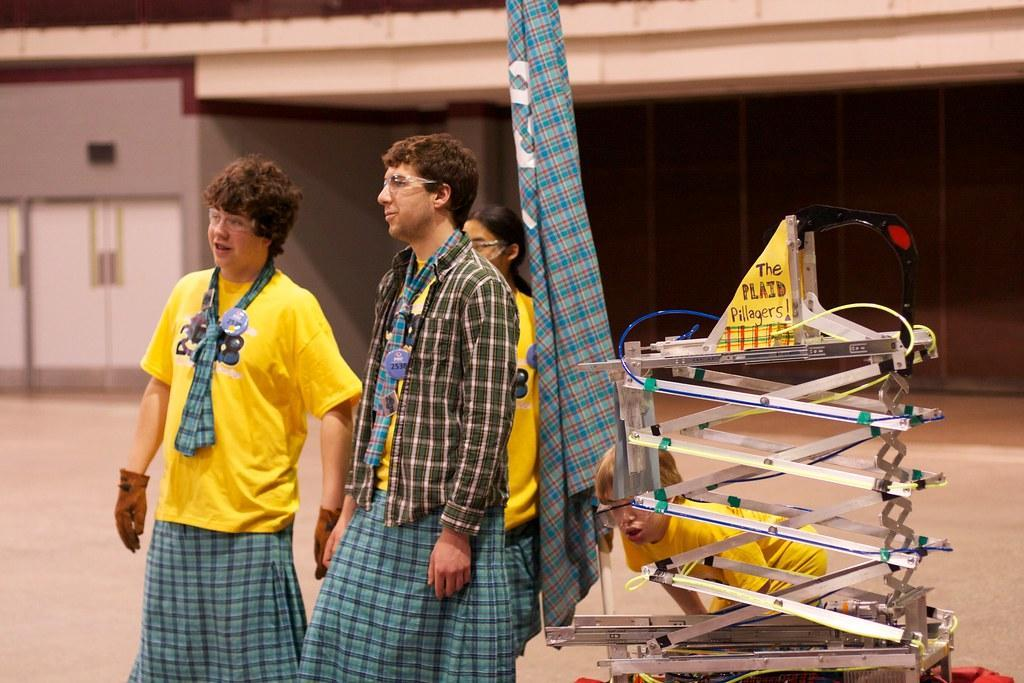robot: (537, 160, 1024, 683)
